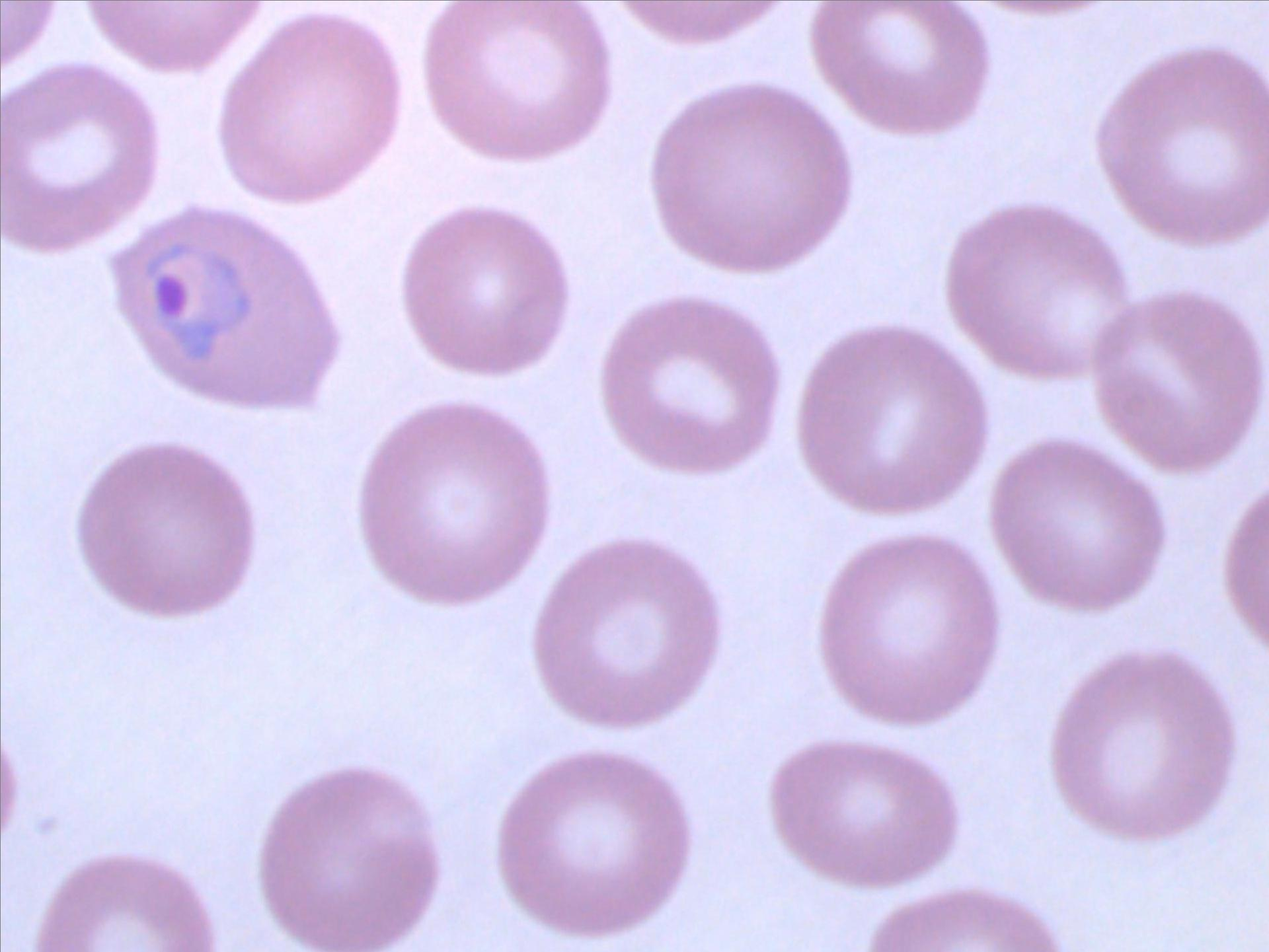Infected: (101, 207, 343, 415)
Uninfected: (360, 402, 549, 606), (654, 83, 853, 275), (795, 326, 987, 510), (1051, 649, 1234, 842), (535, 540, 720, 729), (217, 15, 403, 202), (499, 753, 689, 934), (943, 203, 1134, 382), (1096, 52, 1269, 248), (600, 296, 786, 475), (820, 534, 997, 722), (263, 765, 434, 952), (76, 443, 256, 617), (1087, 289, 1260, 470), (991, 435, 1163, 611), (0, 65, 159, 255), (425, 0, 611, 162), (400, 203, 570, 374), (808, 0, 989, 140), (772, 747, 954, 886)
